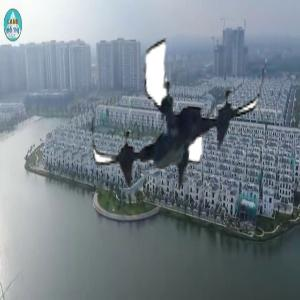drone: (85, 18, 271, 204)
